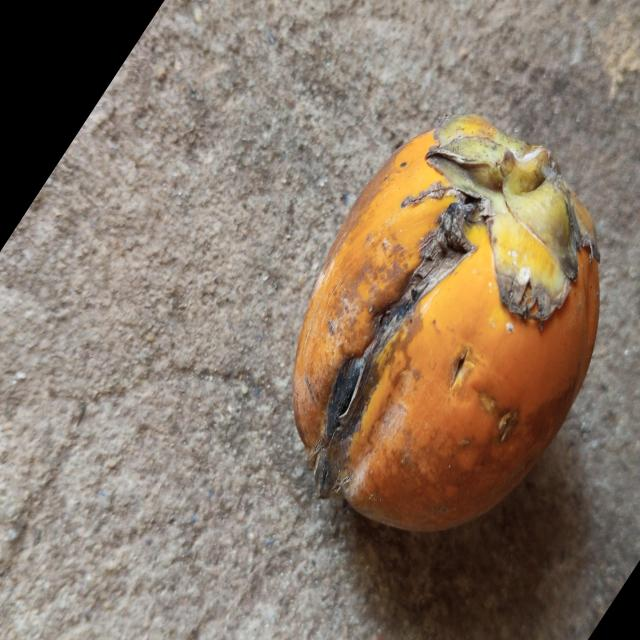damaged: (291, 115, 600, 535)
